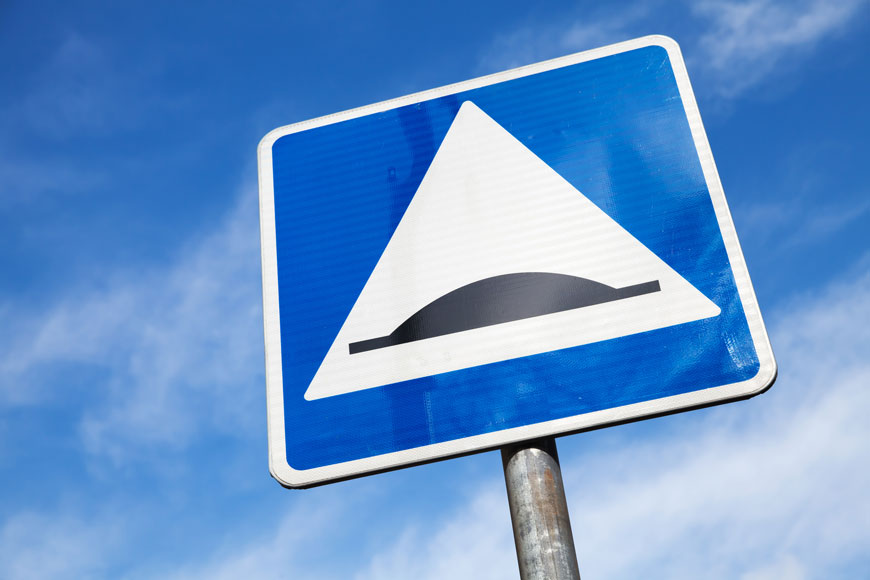speed-breaker: (316, 100, 708, 387)
